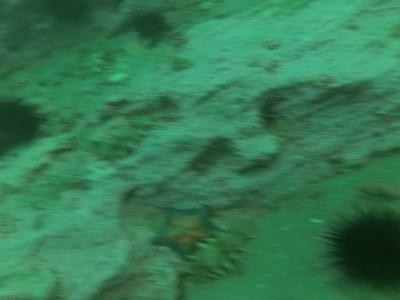holothurian: (178, 227, 254, 284), (87, 115, 155, 158)
urchin: (318, 199, 394, 286), (4, 93, 50, 162), (126, 9, 174, 39)
